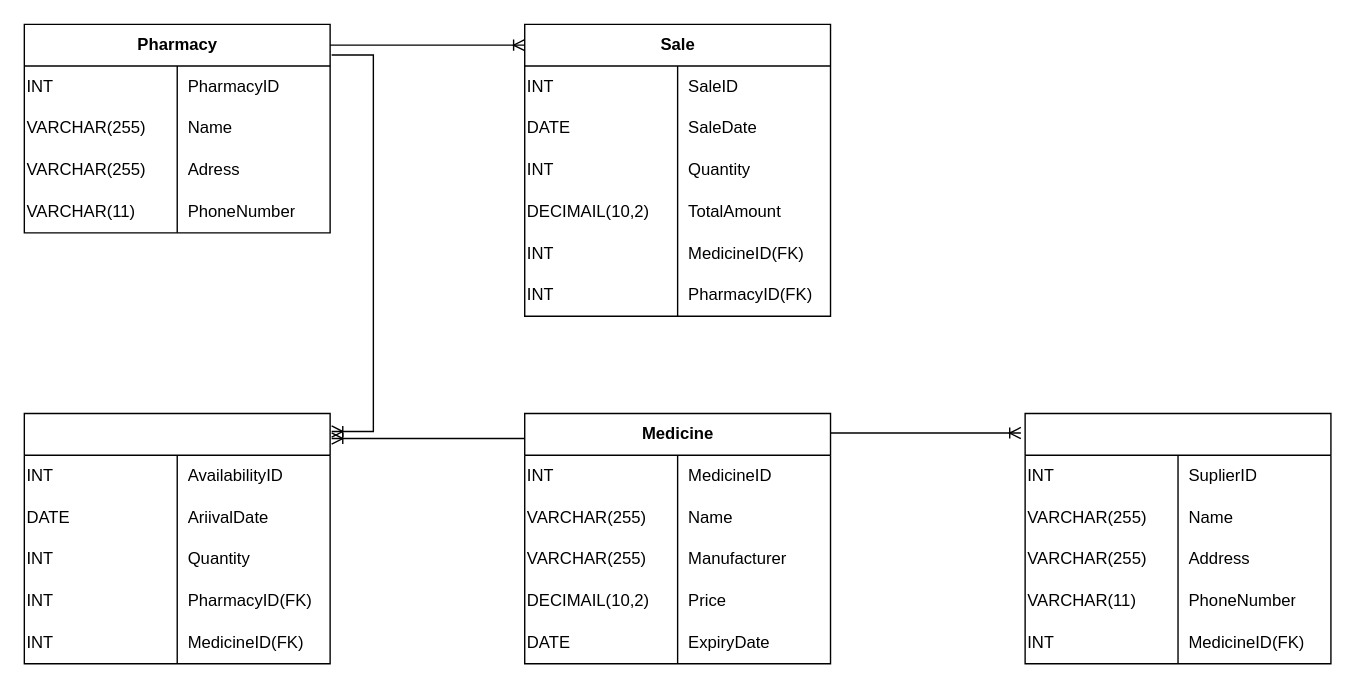
Image size: 1355x688. Some labels were removed from this diagram. The shapes that lost their labels are listed below. From the top down, each one's box as (x1, y1, x2, y2) in pixels, then its label:
(23, 412, 330, 664): MedicineAvailability
(1024, 412, 1331, 664): Supplier
